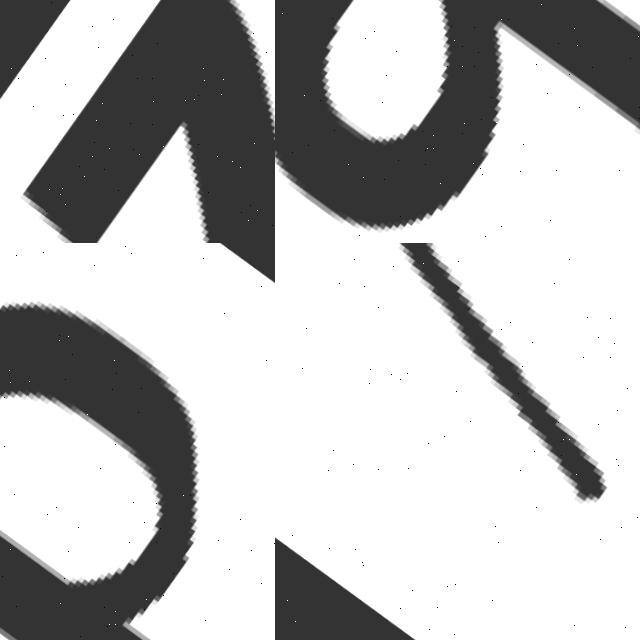2: (0, 0, 275, 243)
D: (0, 243, 275, 640)
J: (275, 243, 640, 640)
K: (275, 0, 640, 243)
